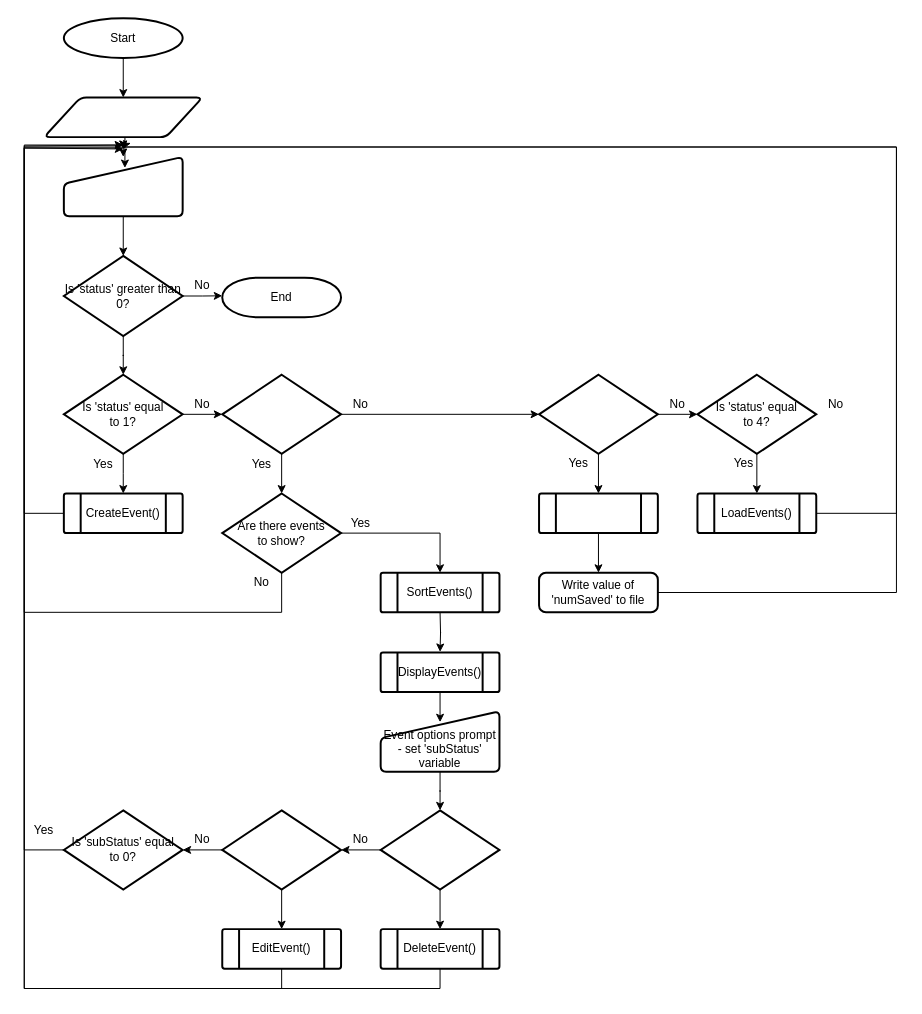
This 922x1014 diagram has some shape labels left out. Each missing label, with the centre of its shape:
"Is 'status' equal to 2?" belongs at [281,413].
"Is 'status' equal to 3?" belongs at [598,413].
"Is 'subStatus' equal to 1?" belongs at [439,849].
"Is 'subStatus' equal to 2?" belongs at [281,849].
"Load Events from save file" belongs at [123,117].
"Main Menu prompt - set 'status' variable" belongs at [122,186].
"SaveEvents()" belongs at [598,513].
